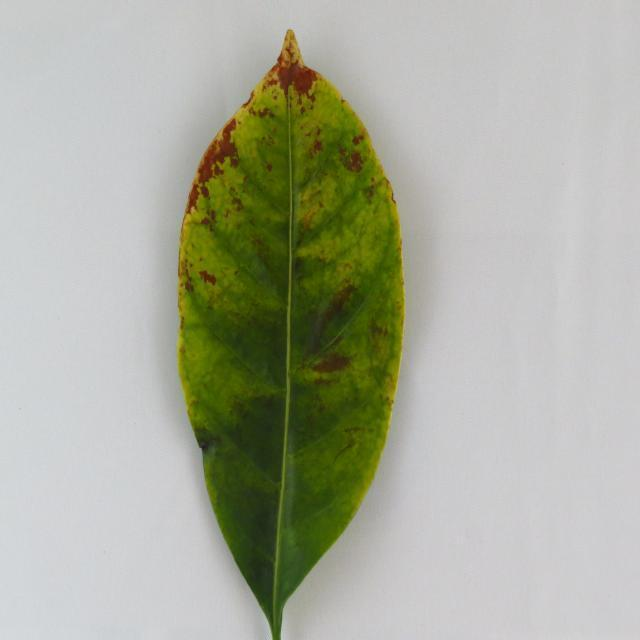DeficienciaNutricional-Manganeso: (178, 30, 404, 638)
